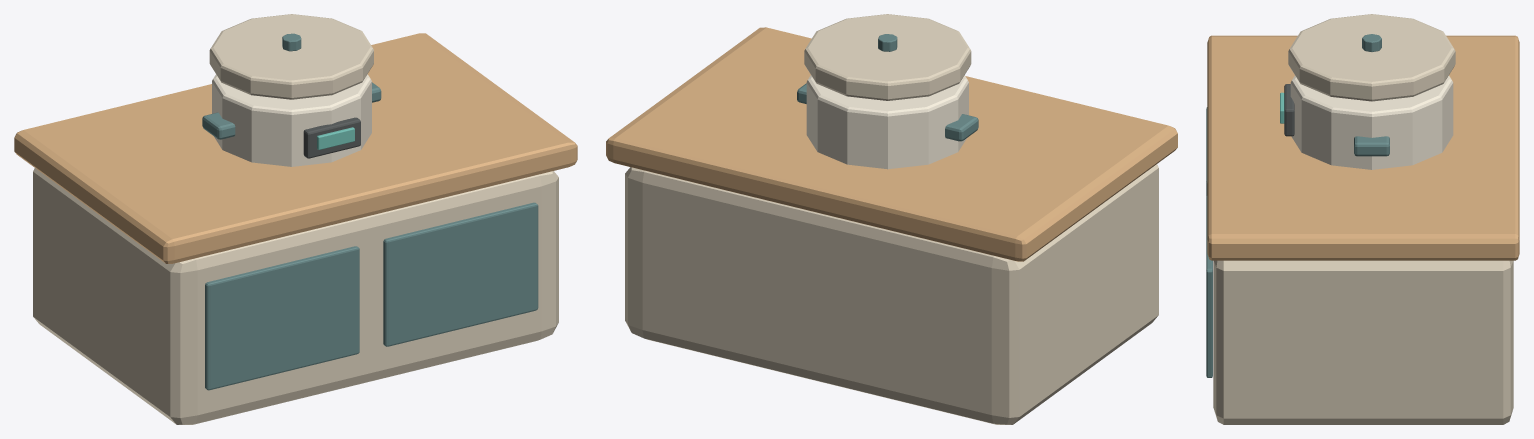
File: cooker.glb
3 renders of one model, left to right at view 1: azimuth 30°, elevation 25°; view 2: azimuth 150°, elevation 25°; view 3: azimuth 270°, elevation 25°, orthographic.
Visible parts, largest first — view 1: cookerCounterTop, cookerCabinet, cookerDoorR, cookerDoorL, lid, cookerBody, cookerFace, cookerHandle, cookerScreen; view 2: cookerCabinet, cookerCounterTop, lid, cookerBody, cookerHandle; view 3: cookerCounterTop, cookerCabinet, lid, cookerBody, cookerDoorR, cookerHandle.001, cookerFace, steamVent.
Part boxes in pixels (left/top/right/bottom): cookerCounterTop: left=14, top=33, right=577, bottom=263; cookerCabinet: left=33, top=168, right=558, bottom=424; cookerDoorR: left=383, top=202, right=538, bottom=346; cookerDoorL: left=205, top=246, right=359, bottom=390; lid: left=209, top=14, right=373, bottom=99; cookerBody: left=212, top=74, right=371, bottom=166; cookerFace: left=303, top=117, right=360, bottom=158; cookerHandle: left=202, top=112, right=235, bottom=139; cookerScreen: left=317, top=127, right=354, bottom=149; cookerCabinet: left=625, top=164, right=1158, bottom=424; cookerCounterTop: left=606, top=27, right=1177, bottom=261; lid: left=804, top=14, right=971, bottom=100; cookerBody: left=806, top=75, right=968, bottom=169; cookerHandle: left=945, top=114, right=978, bottom=141; cookerCounterTop: left=1207, top=35, right=1519, bottom=260; cookerCabinet: left=1213, top=260, right=1513, bottom=424; lid: left=1288, top=14, right=1455, bottom=101; cookerBody: left=1290, top=75, right=1453, bottom=169; cookerDoorR: left=1206, top=196, right=1212, bottom=377; cookerHandle.001: left=1354, top=136, right=1389, bottom=156; cookerFace: left=1284, top=84, right=1294, bottom=136; steamVent: left=1362, top=34, right=1381, bottom=51.
Size of the model in its own units: 2.15 by 1.45 by 1.38.
